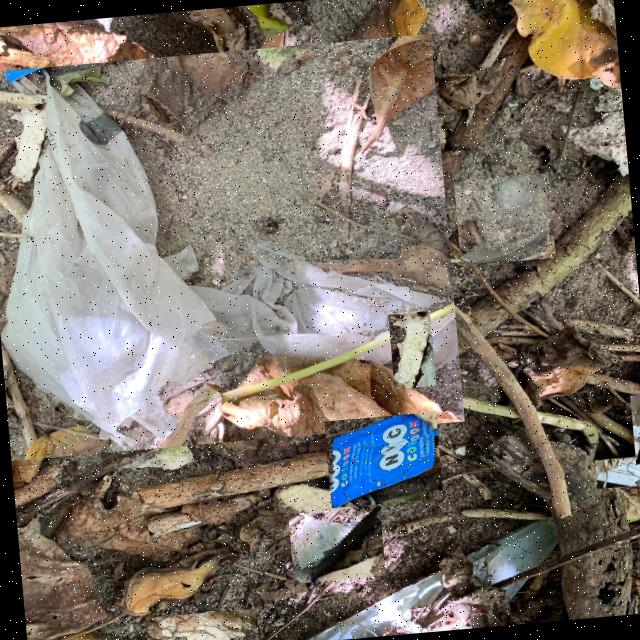Broken glass: (460, 174, 551, 264)
Other plastic: (331, 414, 437, 507), (293, 507, 379, 582), (597, 457, 640, 486), (630, 395, 640, 464)
Plastic film: (0, 67, 458, 450)
Styrofoam piece: (146, 608, 255, 640), (393, 312, 430, 388)
